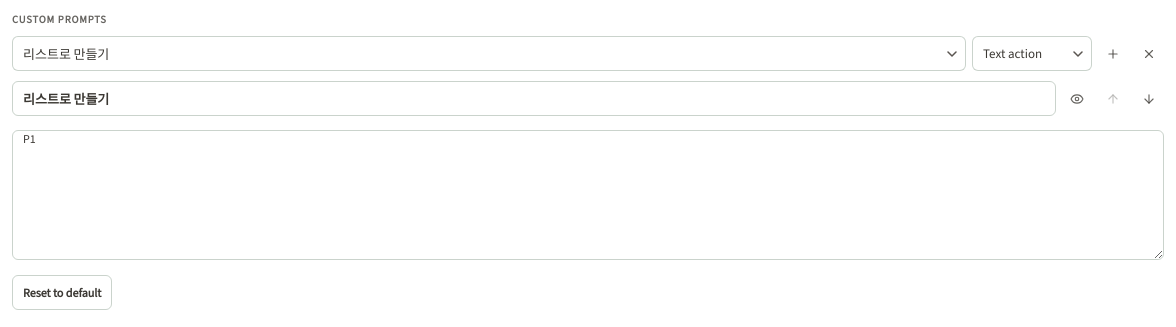
Scenario: AiActionEditor — single-column preset editor (프리셋 관리 모달의 AI 액션 탭) › commit-on-switch: an edit that never blurred is saved when the selection changes
Replace the text in the text box named "Prompt" with "half-typed". click: (588, 195)
box: [12,130,1164,260]
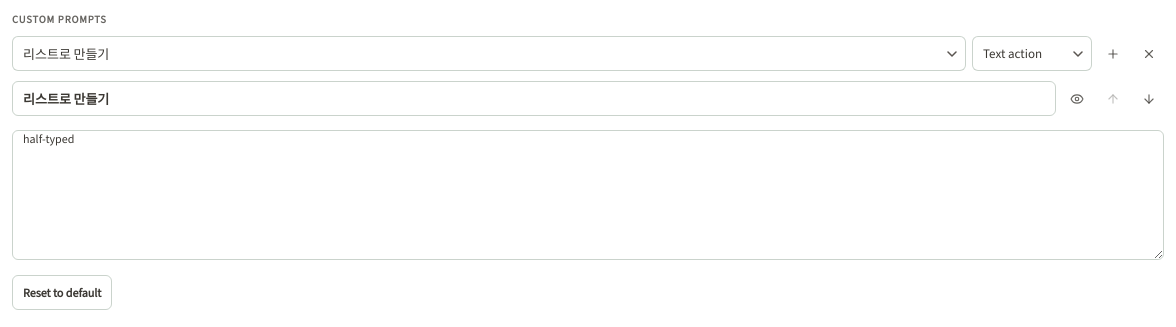
Click the button with test id "ai-action-select". click: click(66, 54)
box: [12,36,966,71]
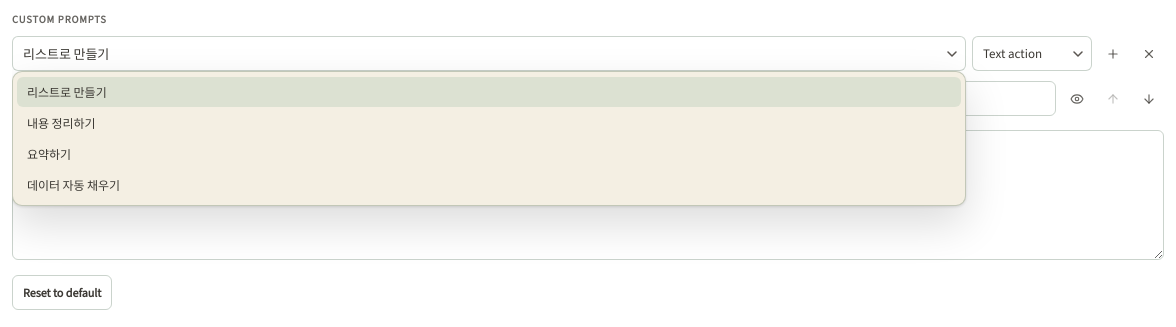
Click the option "내용 정리하기". click: click(61, 124)
box: [27,116,96,132]
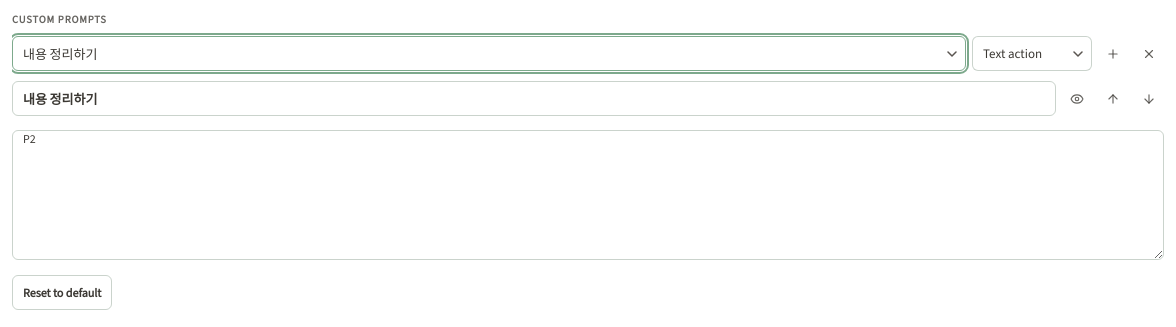
Result: the text box named "Prompt" holds "P2" at [12,130,1164,260]
